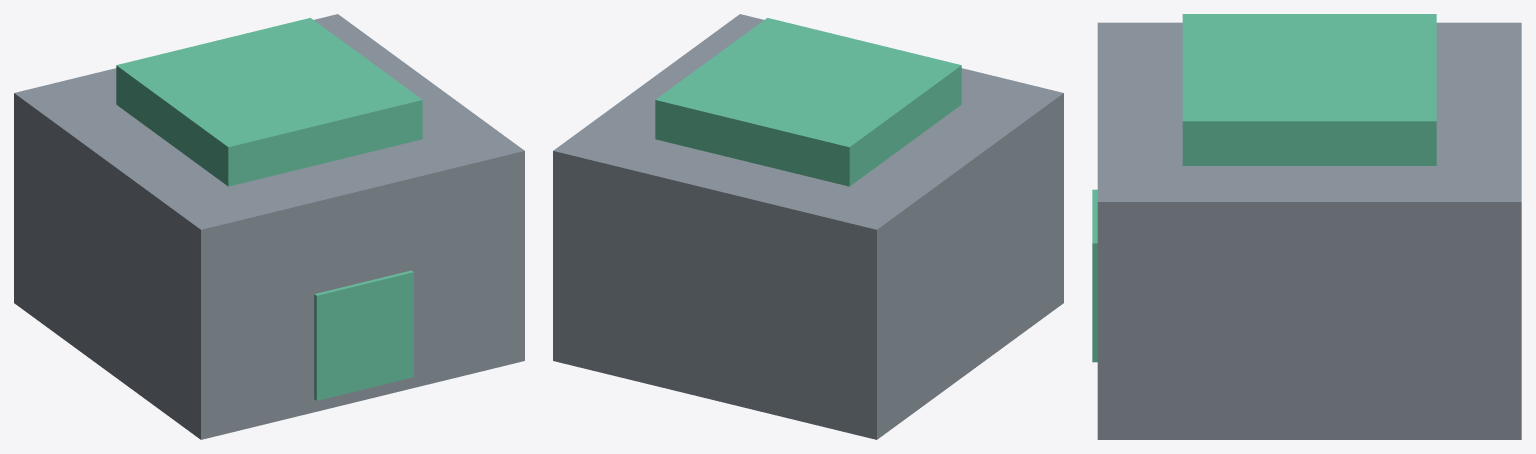
File: SM_Coalition_CO_ConYard_Blockout.fbx
The picture shows the model from 3 angles, left to right: view 1: azimuth 30°, elevation 25°; view 2: azimuth 150°, elevation 25°; view 3: azimuth 270°, elevation 25°; orthographic projection. The views are drawn at different scales.
Visible parts, largest first — view 1: MainBuilding, RoofStructure, EntranceGate; view 2: MainBuilding, RoofStructure; view 3: MainBuilding, RoofStructure, EntranceGate.
Part boxes in pixels (x1=…): MainBuilding: x1=14, y1=14, x2=524, y2=439; RoofStructure: x1=116, y1=18, x2=422, y2=186; EntranceGate: x1=314, y1=270, x2=413, y2=400; MainBuilding: x1=553, y1=14, x2=1063, y2=439; RoofStructure: x1=655, y1=18, x2=961, y2=186; MainBuilding: x1=1097, y1=22, x2=1521, y2=439; RoofStructure: x1=1182, y1=14, x2=1436, y2=165; EntranceGate: x1=1092, y1=189, x2=1097, y2=362.
Bounding box in the file's own units: 800 × 589 × 810.
